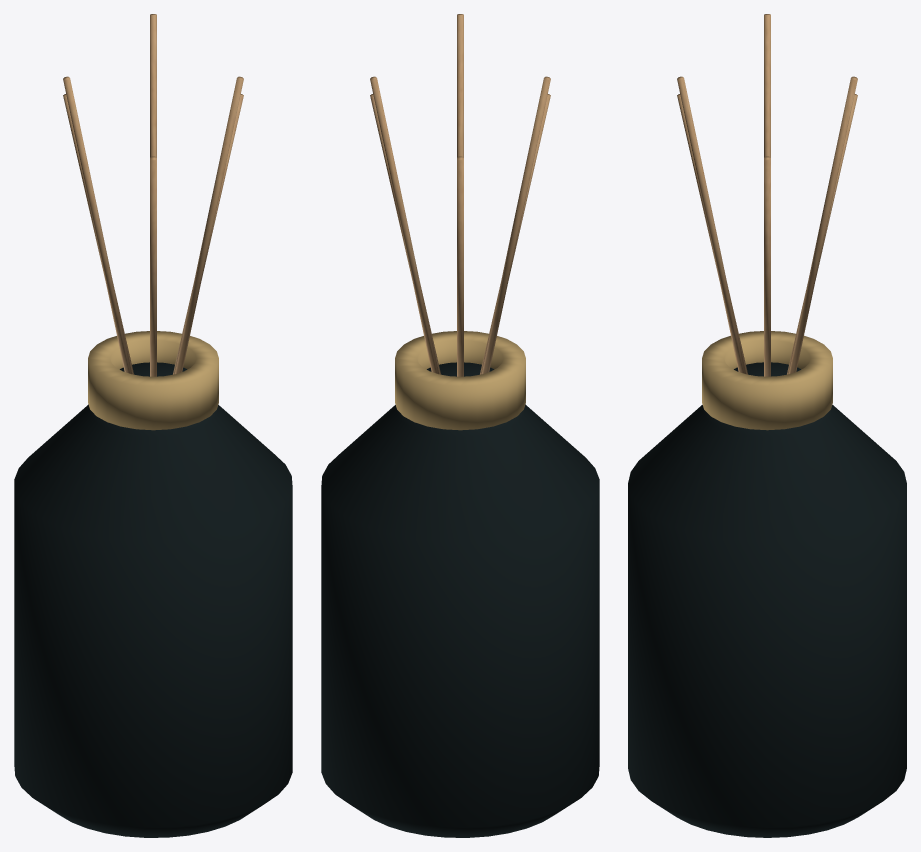
Rendered from shared.diffuser.gltf.
The picture shows the model from 3 angles, left to right: view 1: azimuth 30°, elevation 25°; view 2: azimuth 150°, elevation 25°; view 3: azimuth 270°, elevation 25°; orthographic projection.
Parts seen in each view (by area): view 1: shared.diffuser.scent-bottle; view 2: shared.diffuser.scent-bottle; view 3: shared.diffuser.scent-bottle.
Boxes of the visible parts, left/top/right/bottom form: shared.diffuser.scent-bottle: left=14, top=14, right=292, bottom=837; shared.diffuser.scent-bottle: left=321, top=14, right=599, bottom=837; shared.diffuser.scent-bottle: left=628, top=14, right=906, bottom=837.
Bounding box in the file's own units: 0.086 × 0.2502 × 0.086.
Materials: 3 (1 with a texture image).
